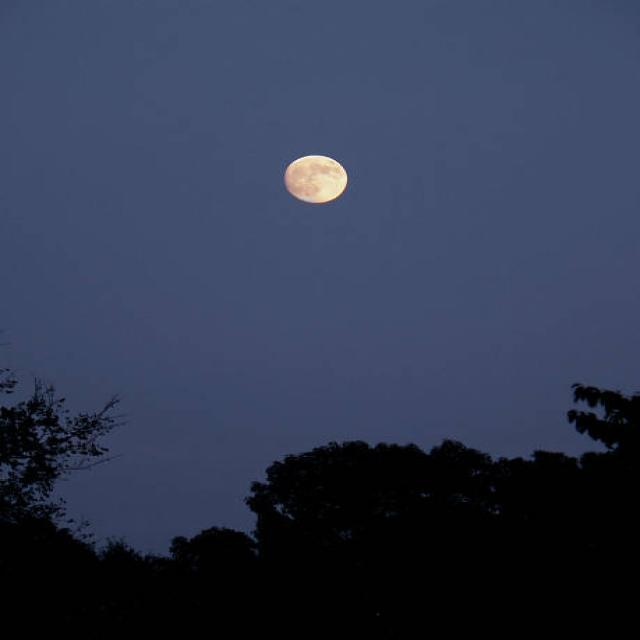moon: (278, 154, 347, 206)
